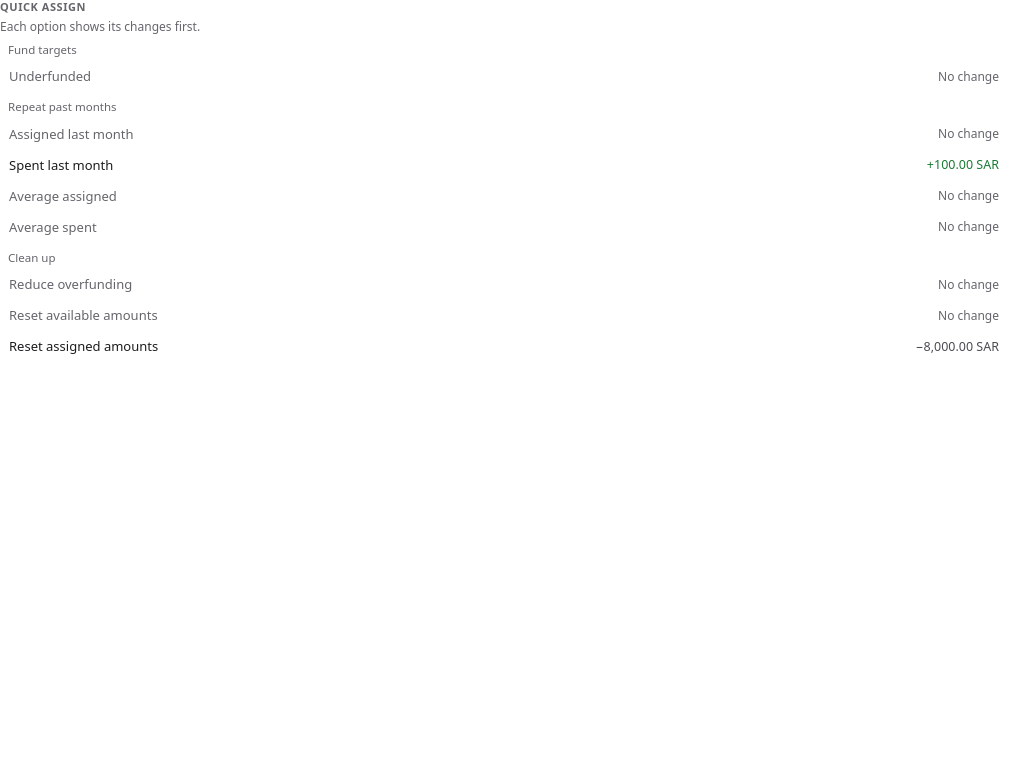
Test: blocks confirmation until the resulting summary succeeds and offers a separate result retry
Expected: the text "+100.00 SAR" is shown, [927,156,999,174]
Click the button "Spent last month +100.00 SAR" at [61, 165], box [0,150,1023,180]
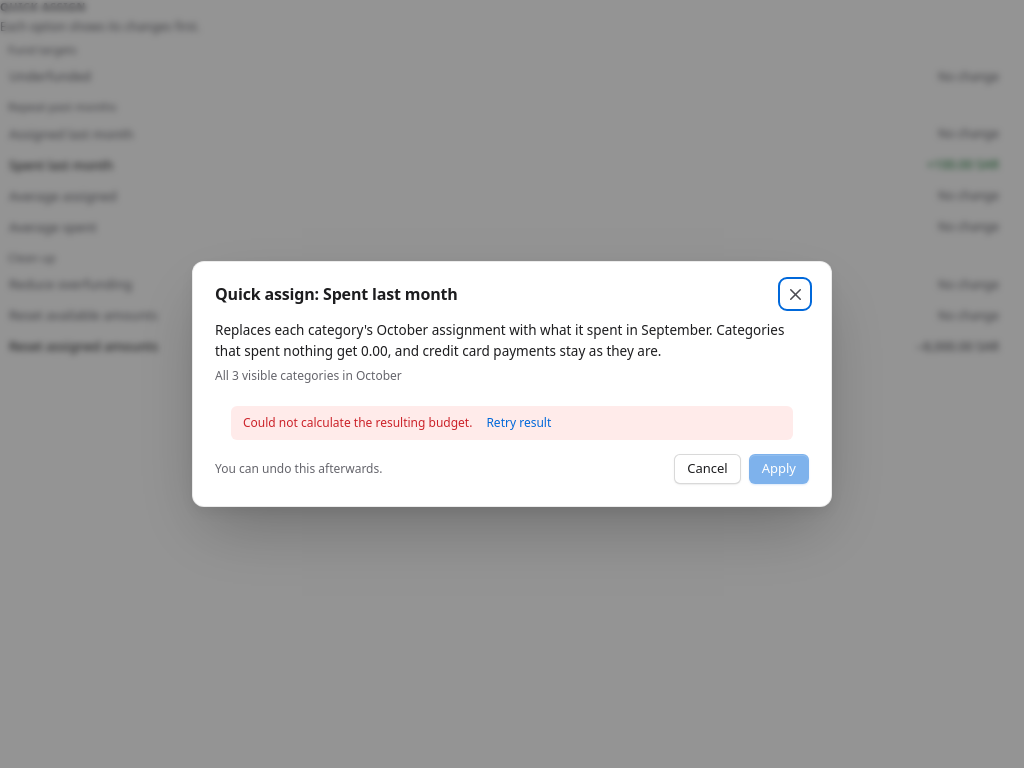
Now the button "Apply" is disabled, box [749,454,809,484]
Click the button "Retry result" at [519, 423], box [482,414,555,432]
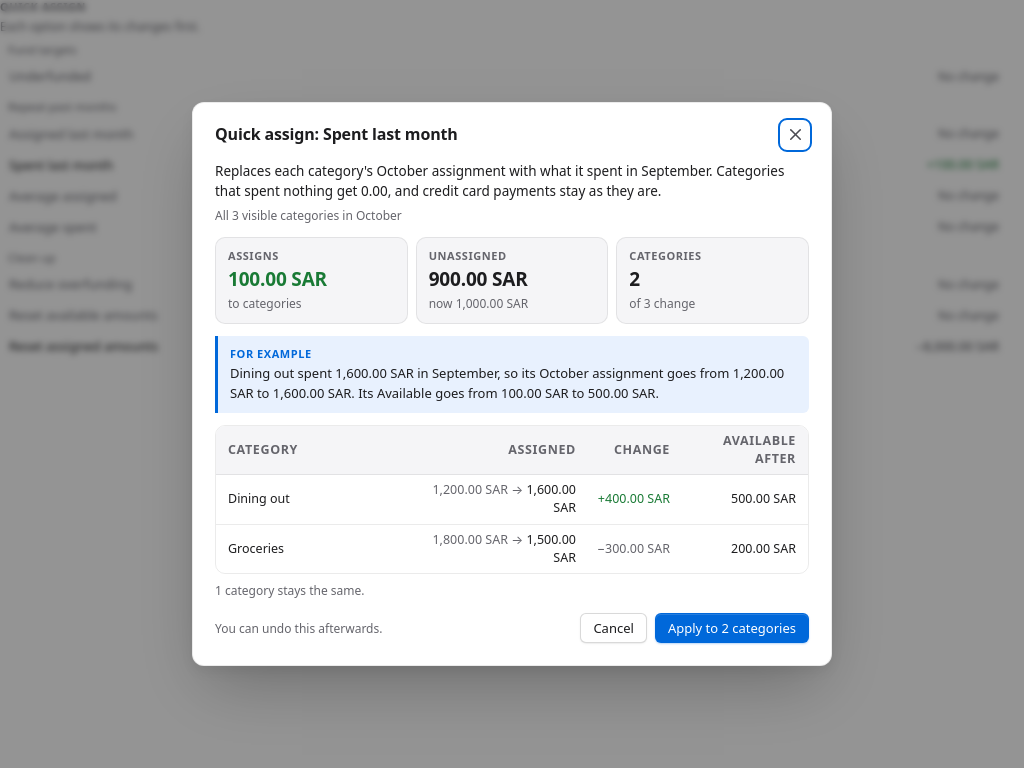
Now the button "Apply to 2 categories" is enabled, box [655,613,809,643]
